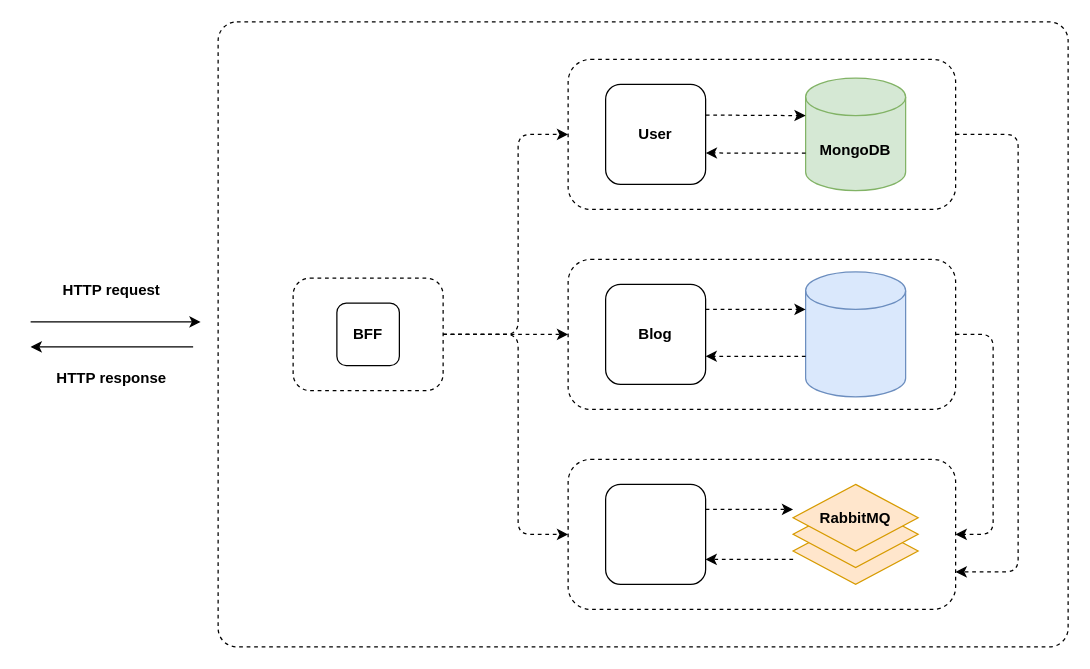
The diagram is 1090 pixels wide and 669 high, and some of its shapes have lost their labels. Each missing label, with the centre of its shape:
Notify: the point at 655,533
PostgreSQL: the point at 855,334
